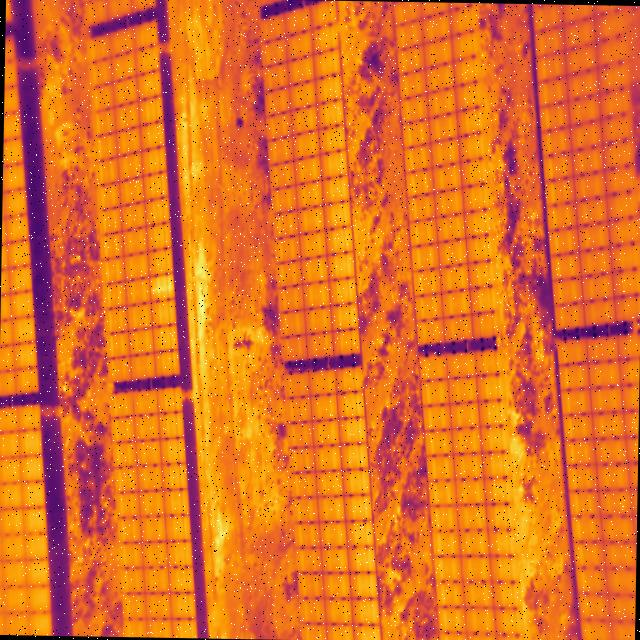Hotspot: (150, 282, 172, 294)
